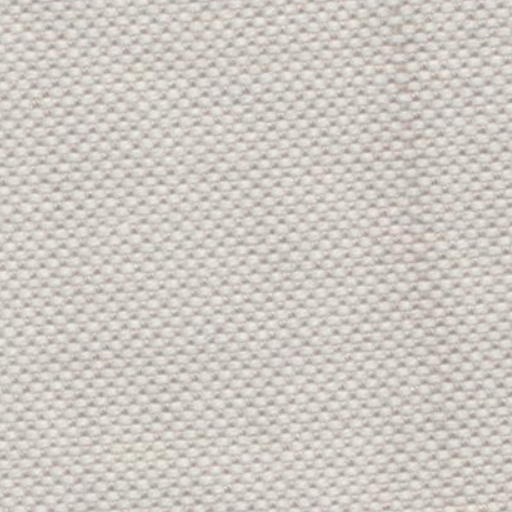TuoSha: (360, 6, 468, 495)
